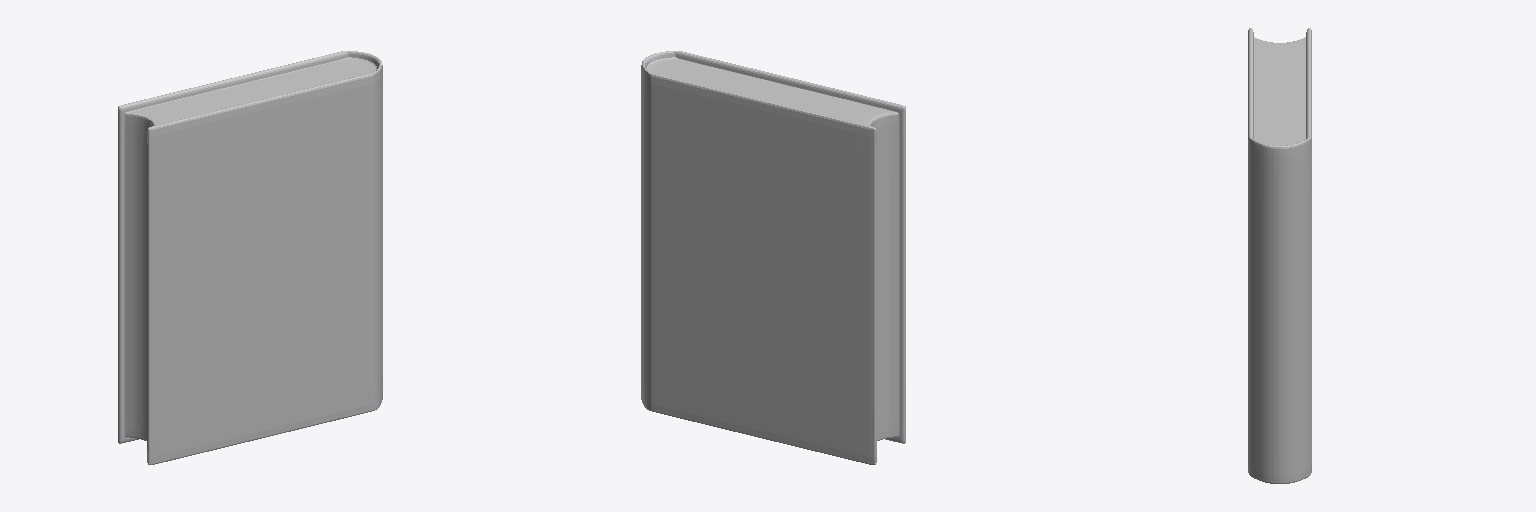
Rendered from greenBook.obj.
3 renders of one model, left to right at view 1: azimuth 30°, elevation 25°; view 2: azimuth 150°, elevation 25°; view 3: azimuth 270°, elevation 25°, orthographic.
Parts seen in each view (by area): view 1: Cube; view 2: Cube; view 3: Cube.
Part boxes in pixels (x1,y1,x2,y2): Cube: (118, 51, 382, 464); Cube: (641, 51, 905, 464); Cube: (1248, 28, 1311, 483).
Size of the model in its own units: 2.27 by 2.98 by 0.5175.